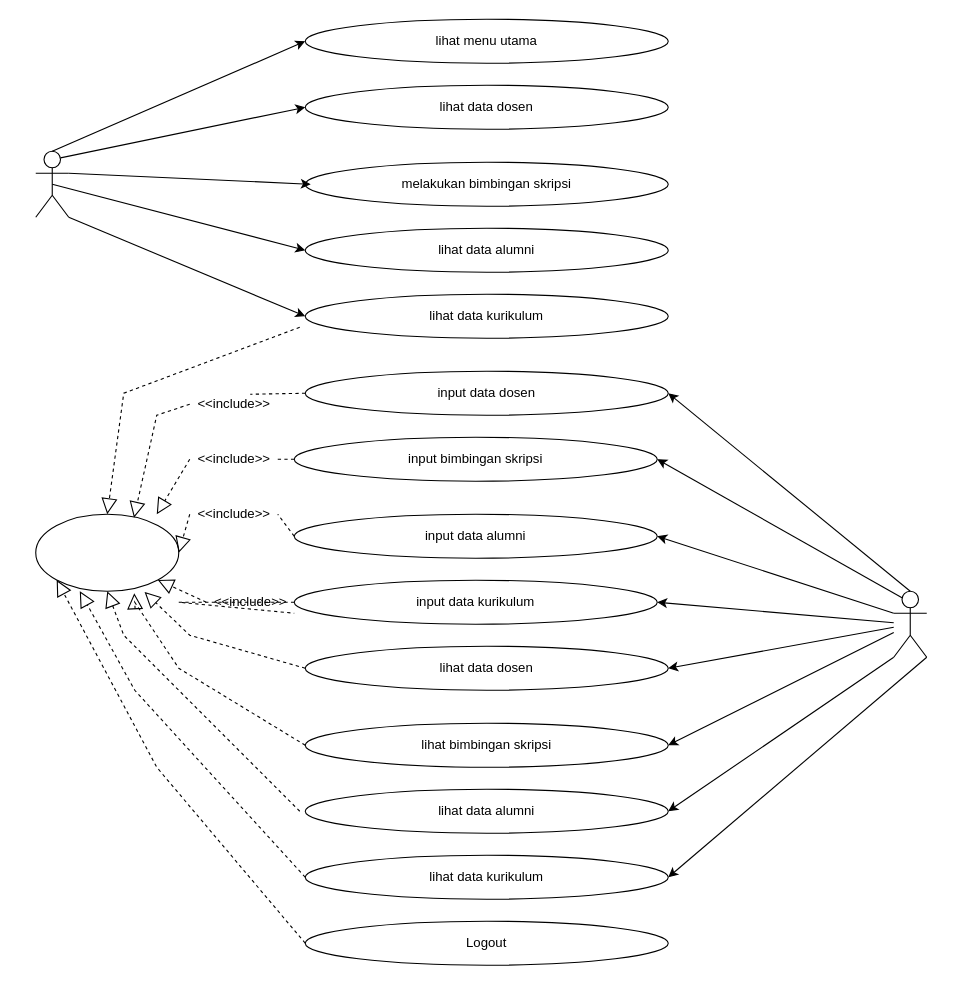
The diagram is 955 pixels wide and 985 high, and some of its shapes have lost their labels. The shapes that lost their labels are listed below. From the top down, each one's box as (x1, y1, x2, y2) in pixels, then its label:
(35, 150, 69, 217): mahasiswa
(35, 513, 179, 591): Login
(893, 590, 927, 657): Pihak Kampus
